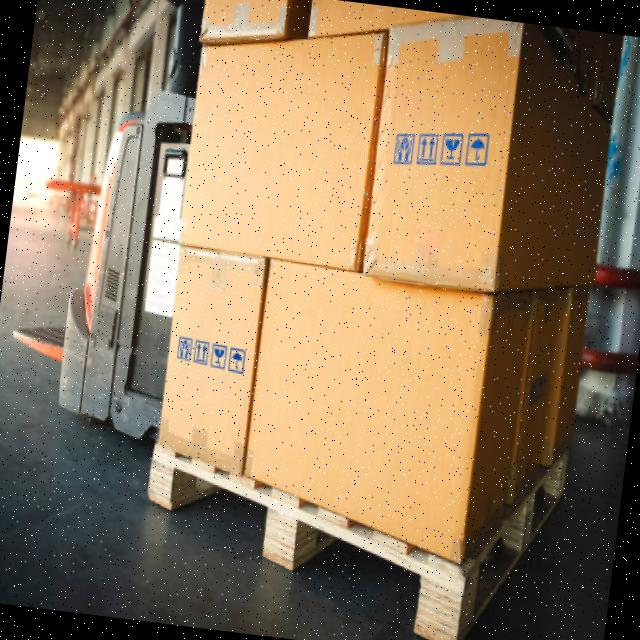Wooden-Pallets: (141, 442, 571, 640)
